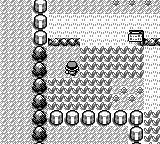captura: (48, 46, 144, 111), (144, 110, 159, 143)
leer: (129, 30, 144, 45)
main: (65, 61, 79, 76)
no-caminable: (48, 110, 142, 143), (33, 47, 47, 144), (33, 0, 48, 46)
salto: (48, 38, 80, 46), (144, 38, 160, 46)
